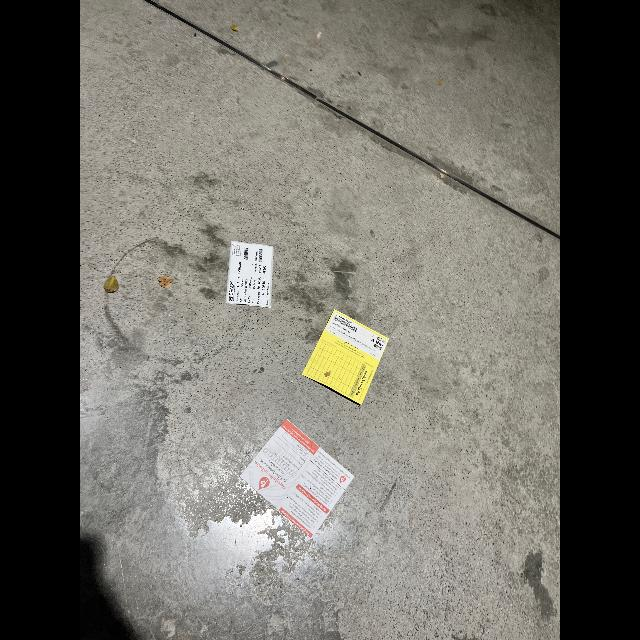scrap_paper: (238, 414, 358, 526), (300, 308, 394, 398), (224, 235, 278, 309)
